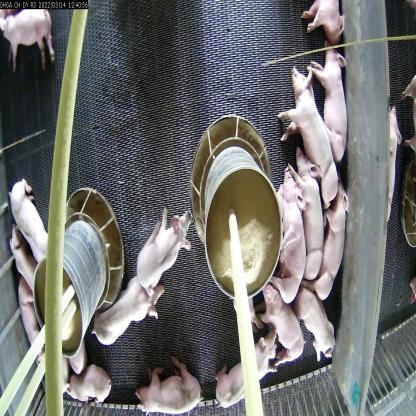Pig: (211, 324, 284, 415), (283, 65, 326, 200), (134, 208, 197, 299), (316, 170, 357, 301), (1, 1, 61, 80), (277, 160, 306, 304), (259, 278, 303, 366), (137, 357, 200, 415), (300, 266, 338, 362), (92, 272, 144, 331), (67, 357, 117, 415), (15, 174, 44, 272), (300, 150, 322, 274)
